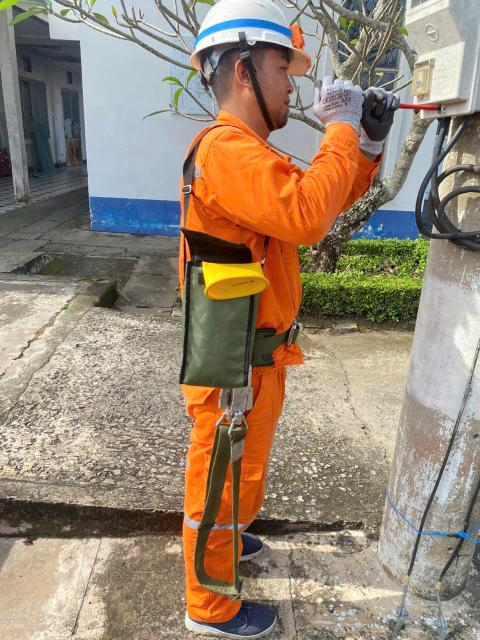gloves: (356, 73, 410, 156), (308, 70, 372, 139)
harness: (174, 318, 327, 390)
helmet: (176, 0, 331, 90)
shoes: (183, 588, 285, 640), (209, 518, 271, 569)
